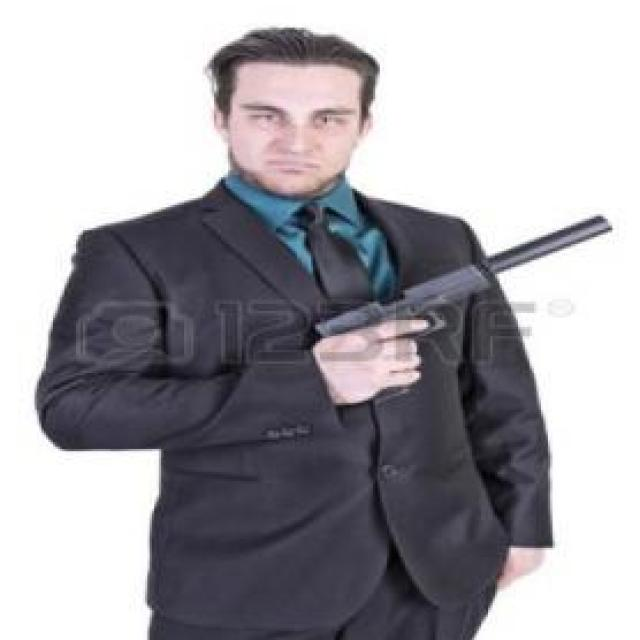pistol: (313, 260, 490, 408)
